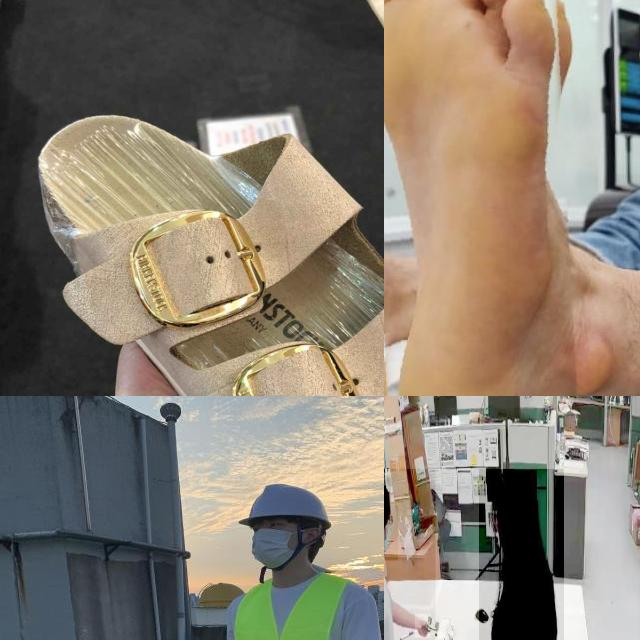Barefoots: (384, 0, 587, 396)
Sandals: (0, 84, 384, 396)
face_mask: (384, 505, 398, 560)
hand_noglove: (415, 614, 431, 638)
head_helmet: (240, 484, 332, 531)
head_nohelmet: (492, 469, 538, 512)
person: (159, 469, 384, 640), (479, 469, 564, 640), (384, 469, 436, 640)
vest: (241, 575, 356, 640)
